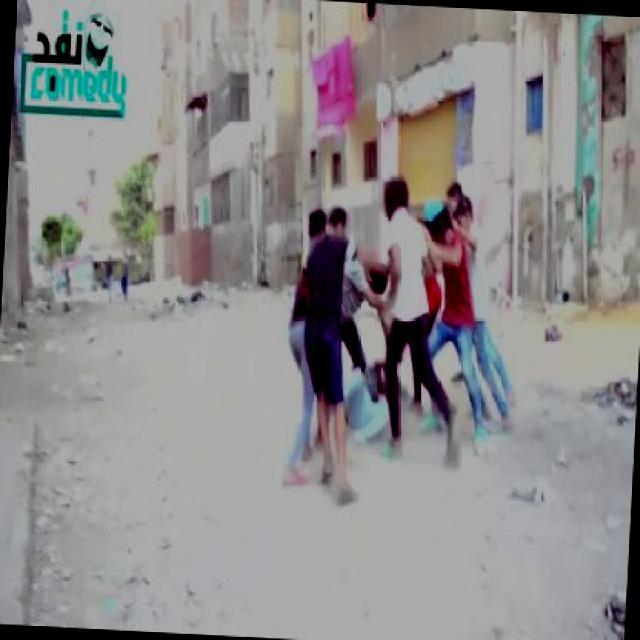fight: (334, 169, 451, 465)
